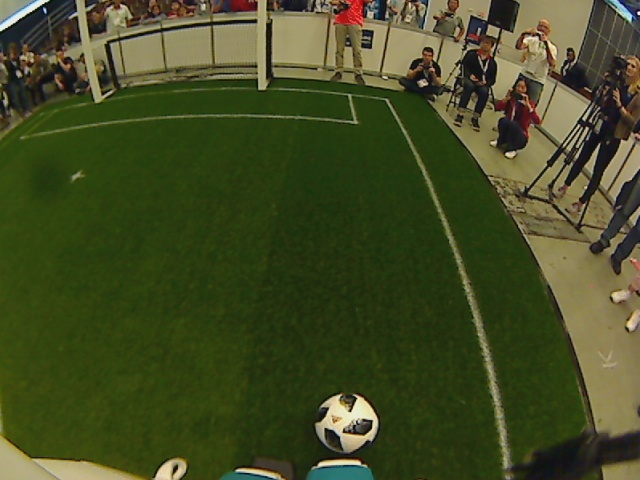ball: (311, 390, 380, 454)
